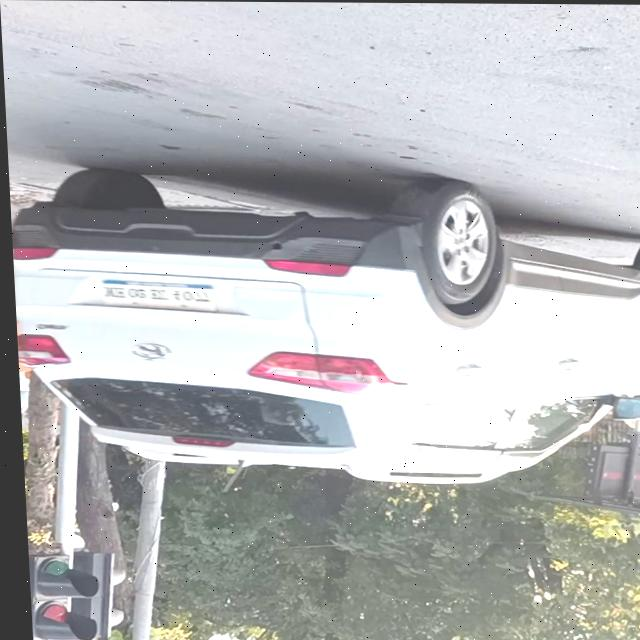plate: (94, 279, 216, 311)
